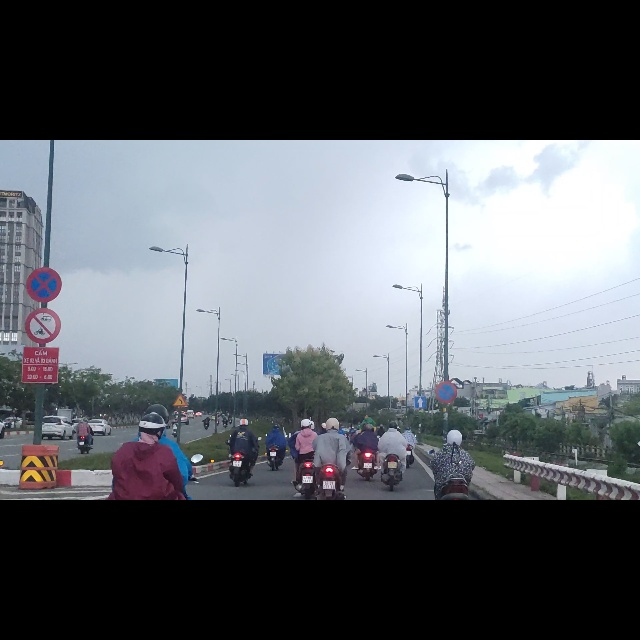bien_chi_dan: (25, 297, 61, 361), (26, 226, 62, 289), (436, 427, 457, 467), (173, 452, 188, 474), (414, 455, 427, 478)
